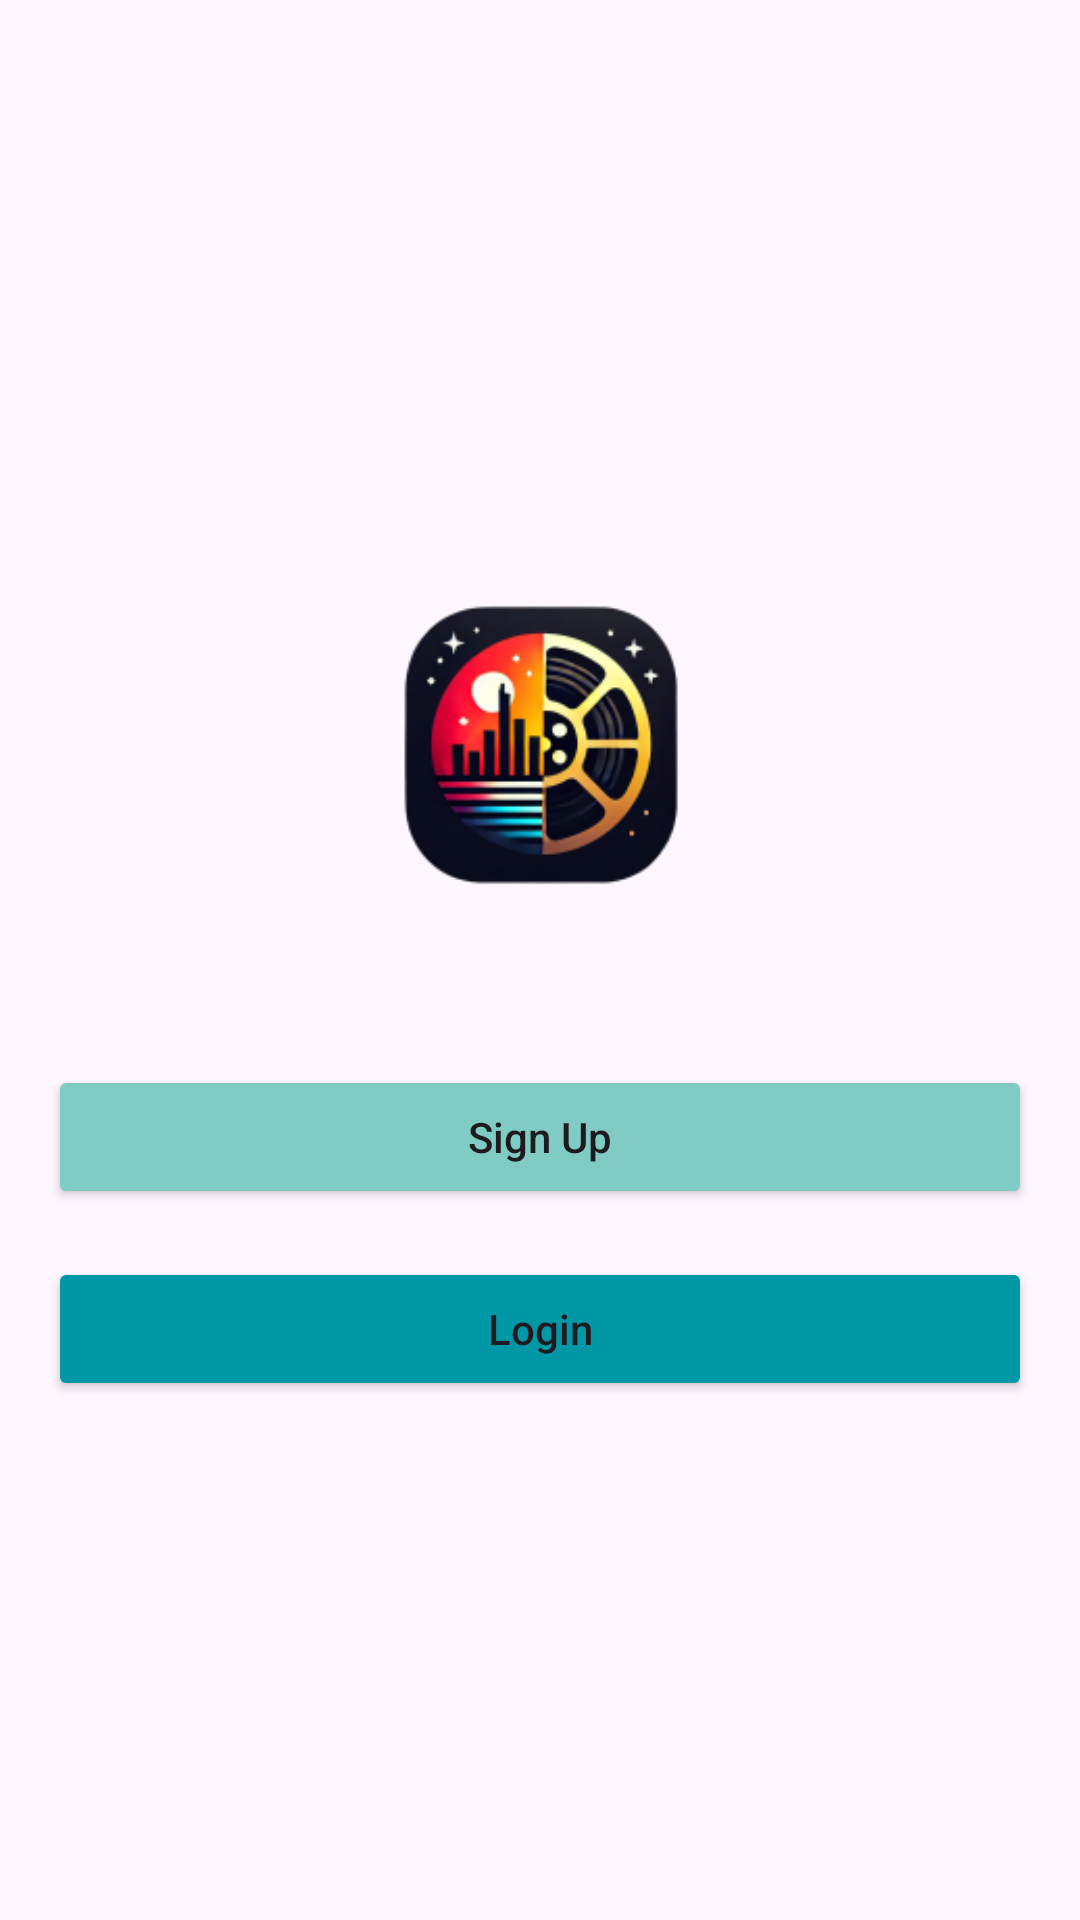

Where to tap for icons on this 1080*1920 app screen, as point (x, y):
app: point (541, 745)
